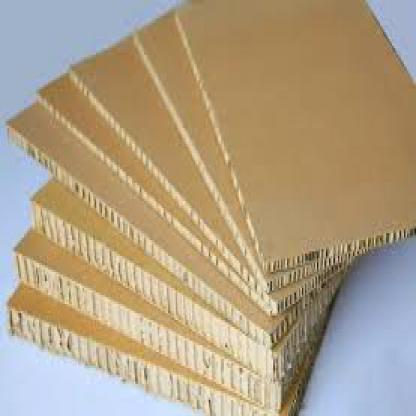CARDBOARD: (66, 32, 365, 318), (5, 98, 346, 345), (34, 71, 353, 315), (172, 0, 414, 270), (29, 178, 346, 379), (132, 16, 358, 290), (10, 226, 334, 409), (4, 281, 338, 414)
